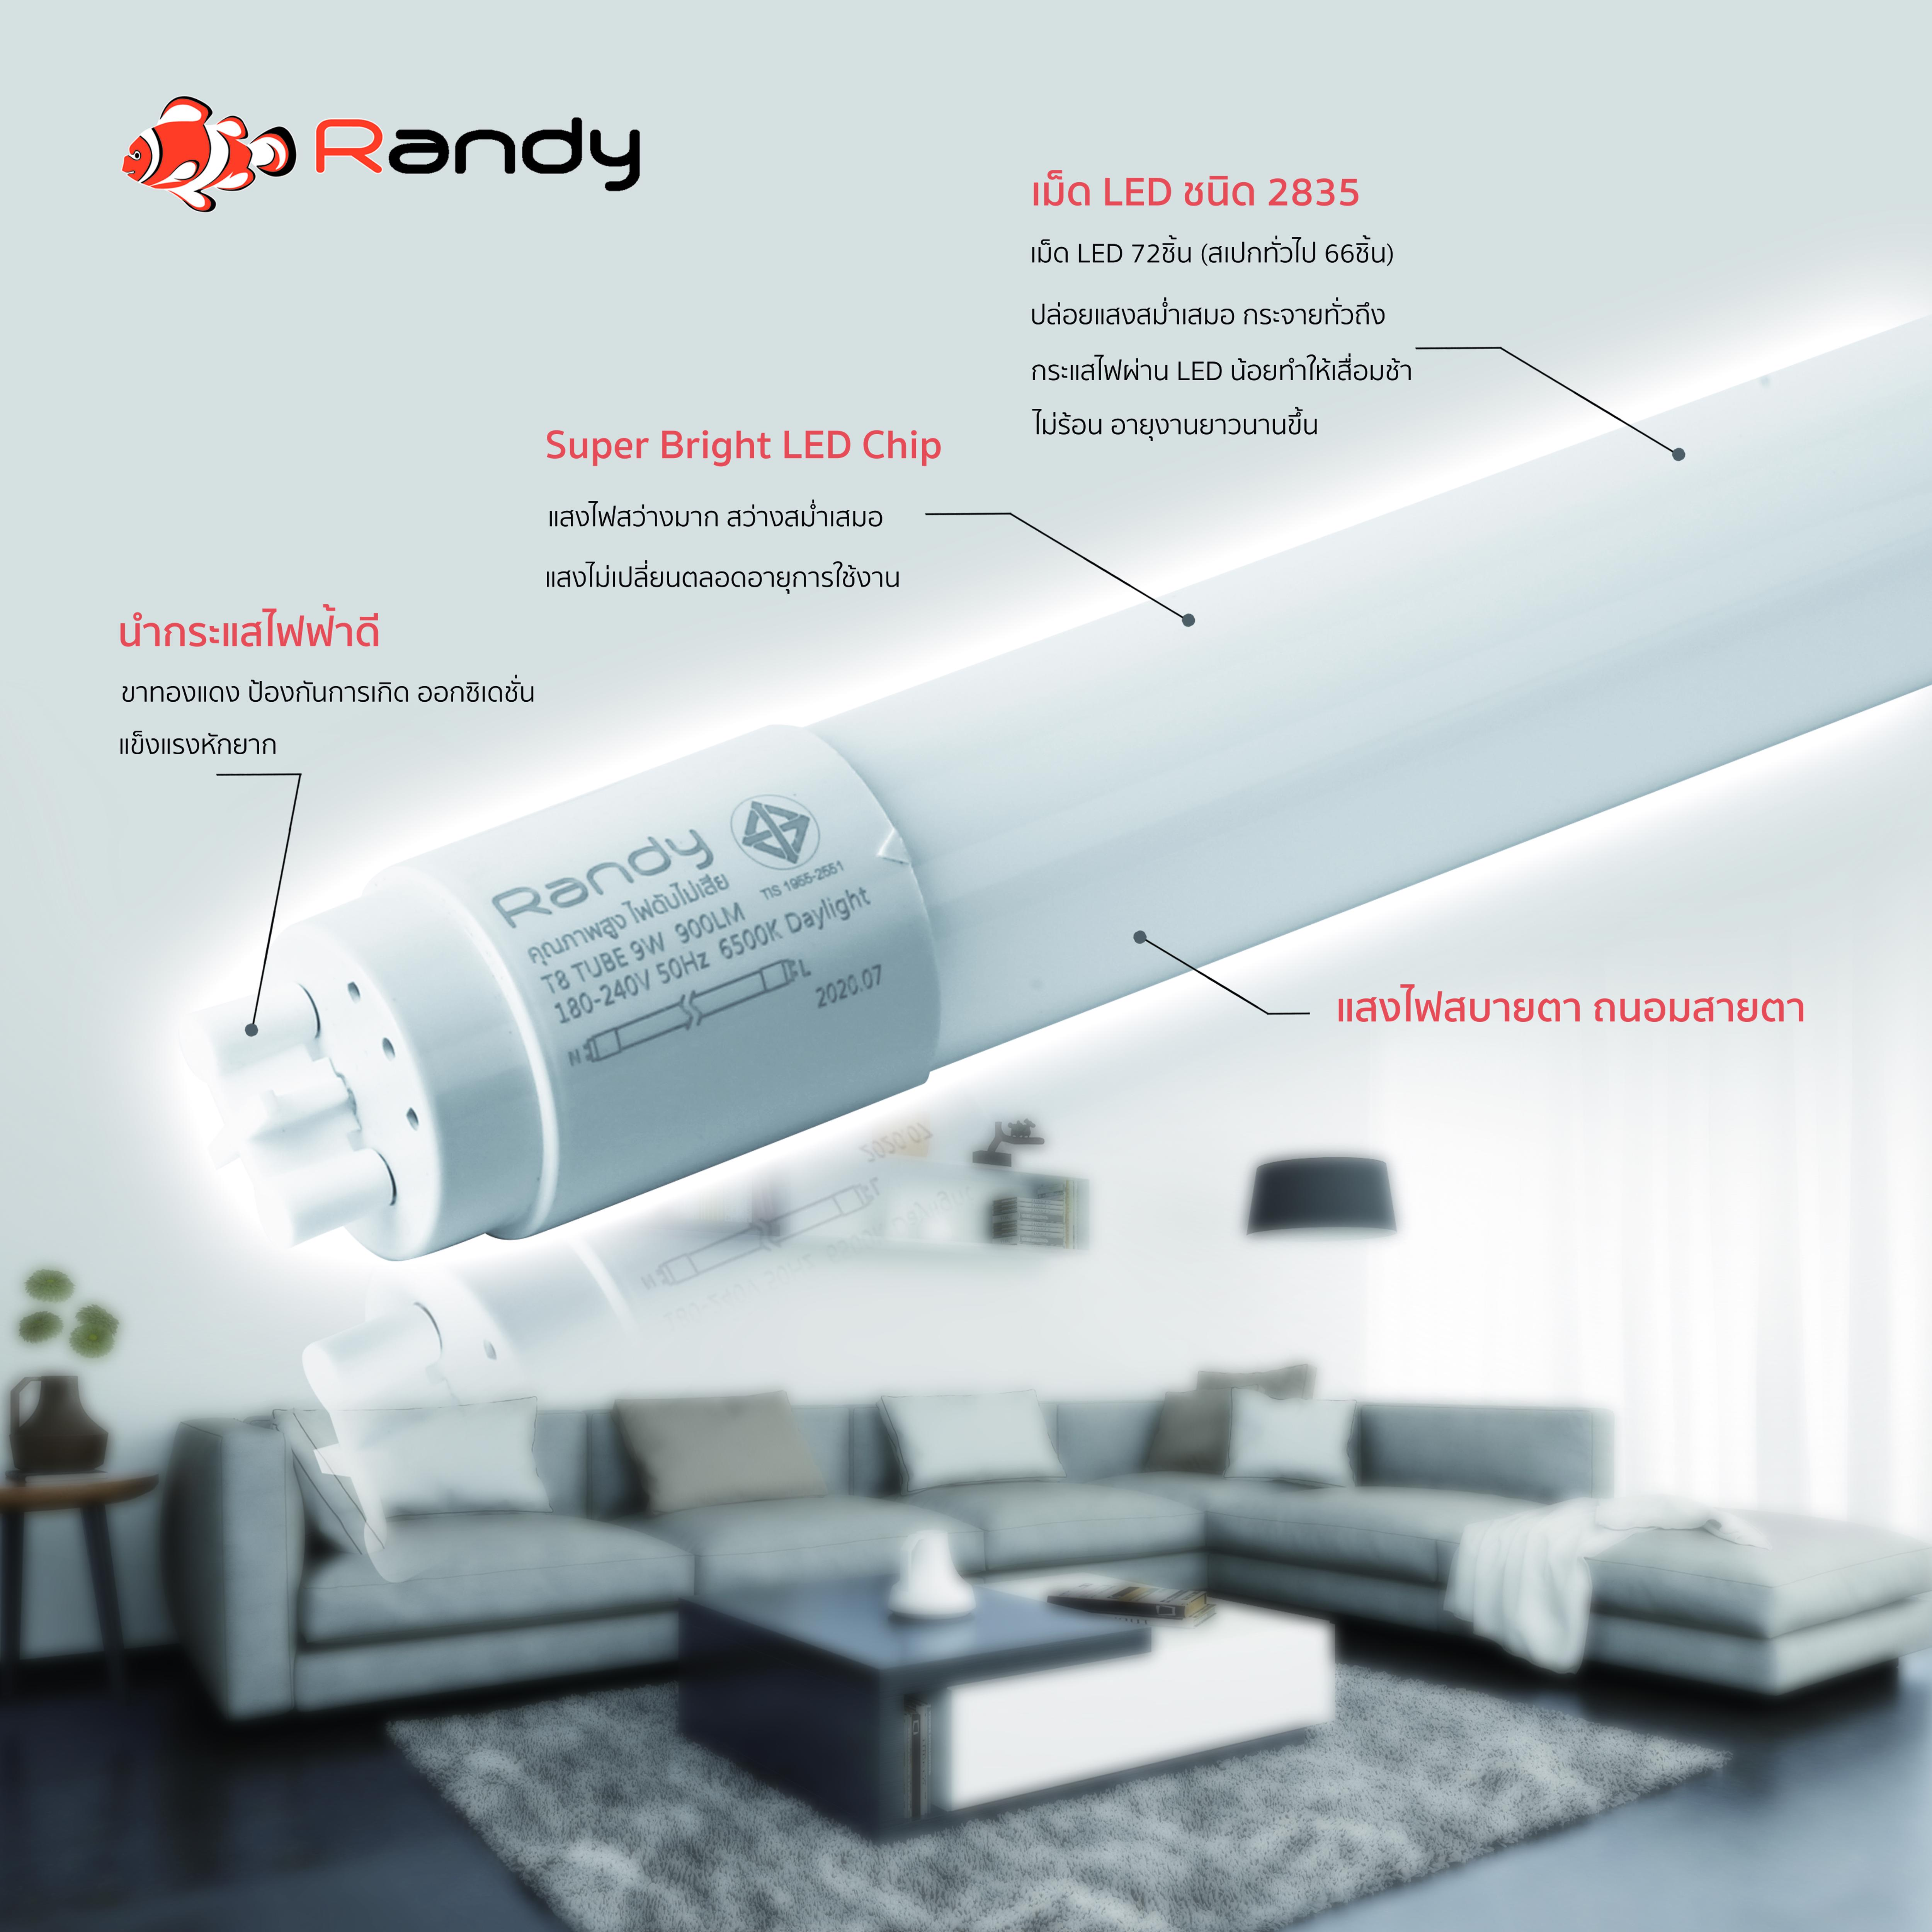Light_bulb: (168, 303, 1932, 1292)
